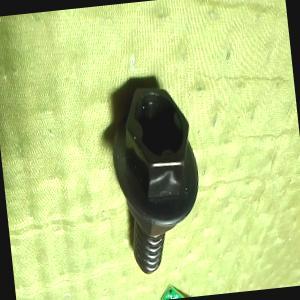parafuso: (103, 78, 206, 274)
